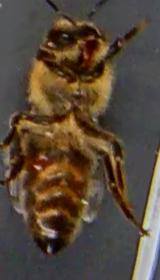varroa_mite: (26, 140, 54, 183)
